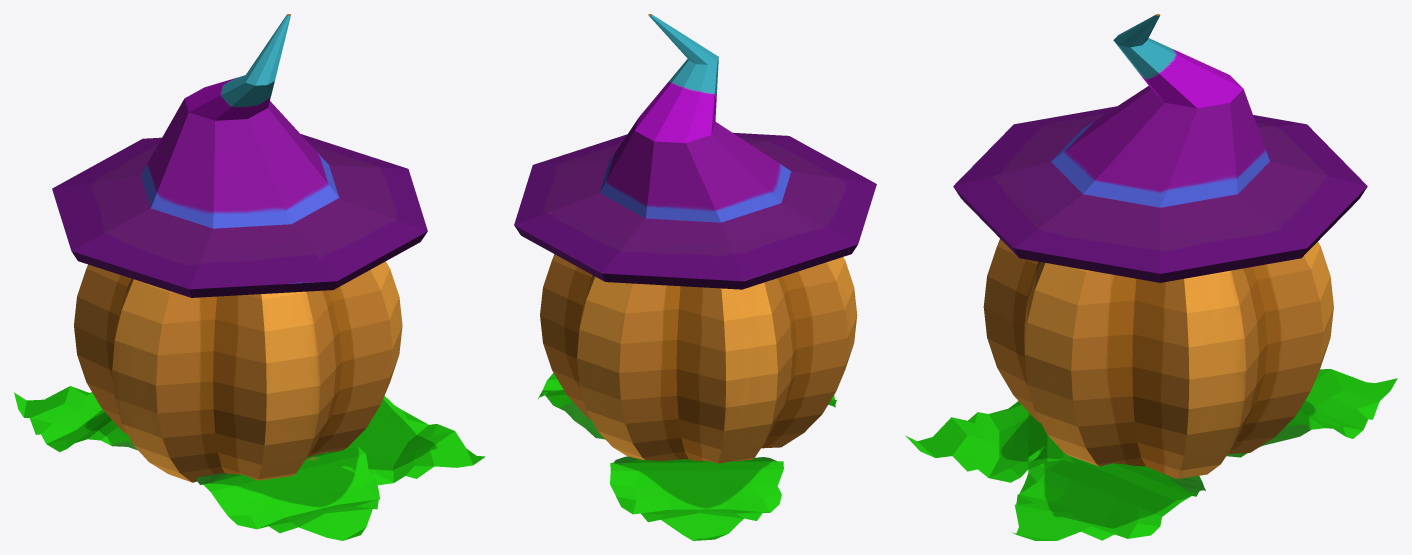
File: Pumpkin.fbx
The picture shows the model from 3 angles, left to right: view 1: azimuth 30°, elevation 25°; view 2: azimuth 150°, elevation 25°; view 3: azimuth 270°, elevation 25°; orthographic projection. The views are drawn at different scales.
Parts seen in each view (by area): view 1: Cylinder; view 2: Cylinder; view 3: Cylinder.
Boxes of the visible parts, left/top/right/bottom form: Cylinder: left=14, top=14, right=485, bottom=540; Cylinder: left=514, top=14, right=876, bottom=540; Cylinder: left=905, top=14, right=1397, bottom=540.
Bounding box in the file's own units: 334 × 397 × 386.
Materials: 1 (1 with a texture image).
